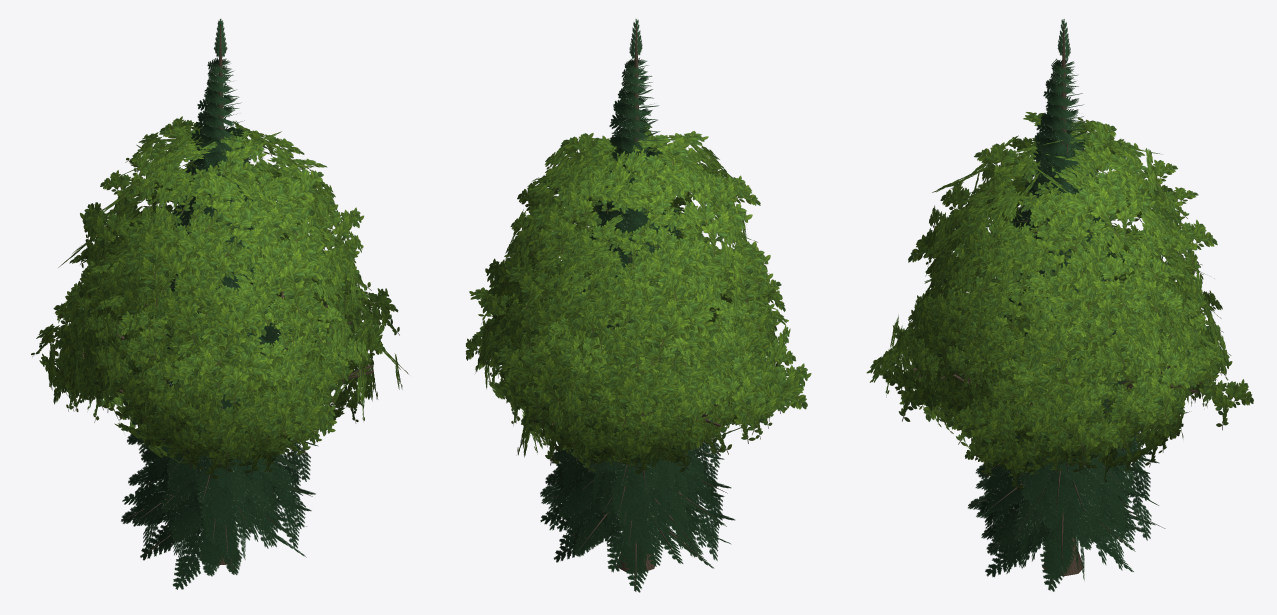
Rendered from trees.glb.
3 views of the same model, side by side, from view 1: azimuth 30°, elevation 25°; view 2: azimuth 150°, elevation 25°; view 3: azimuth 270°, elevation 25° (orthographic).
Parts seen in each view (by area): view 1: broad_b-leaves, broad_a-leaves, spruce_a-leaves, spruce_b-leaves, spruce_a-bark; view 2: broad_b-leaves, broad_a-leaves, spruce_a-leaves, spruce_b-leaves, spruce_a-bark; view 3: broad_b-leaves, broad_a-leaves, spruce_a-leaves, spruce_b-leaves, spruce_a-bark.
Part boxes in pixels (x1,y1,x2,y2): broad_b-leaves: (49, 116, 399, 479); broad_a-leaves: (31, 205, 408, 475); spruce_a-leaves: (121, 19, 318, 589); spruce_b-leaves: (160, 201, 299, 559); spruce_a-bark: (122, 24, 315, 574); broad_b-leaves: (469, 123, 807, 472); broad_a-leaves: (465, 206, 811, 475); spruce_a-leaves: (540, 19, 735, 592); spruce_b-leaves: (557, 135, 710, 548); spruce_a-bark: (542, 24, 730, 591); broad_b-leaves: (866, 112, 1229, 484); broad_a-leaves: (896, 213, 1253, 491); spruce_a-leaves: (968, 19, 1158, 591); spruce_b-leaves: (991, 136, 1131, 570); spruce_a-bark: (968, 24, 1165, 589).
Bounding box in the file's own units: 13.82 × 19.2 × 12.79.
Materials: 2 (2 with a texture image).
